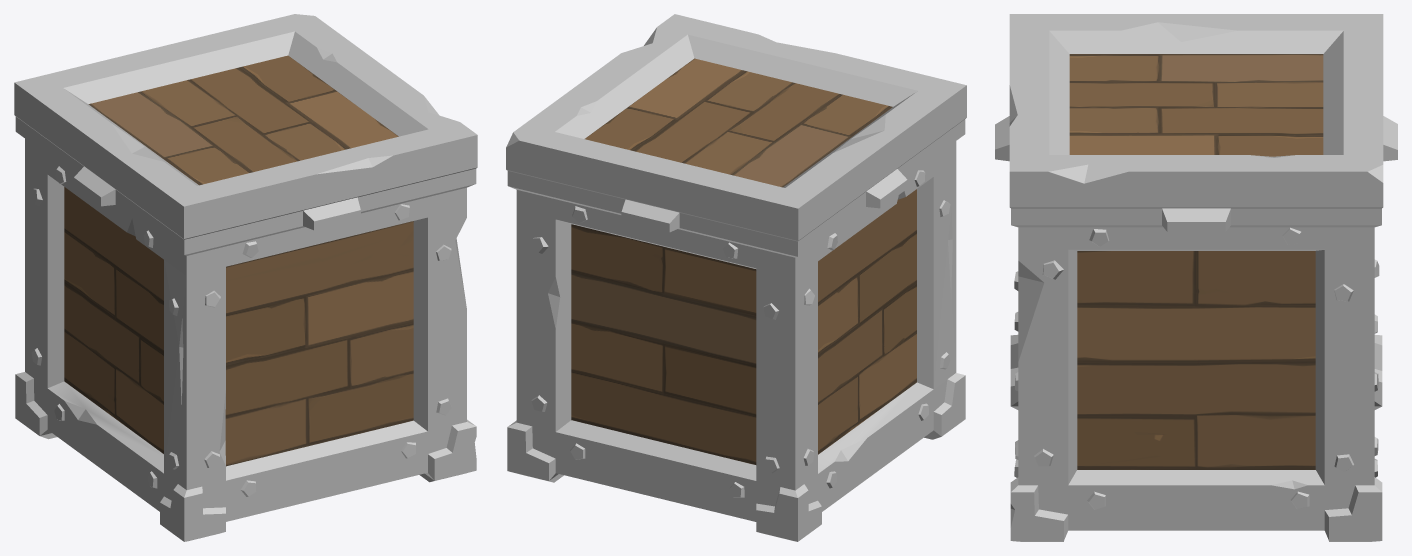
Rendered from SM_Prop_Crate_05.fbx.
3 views of the same model, side by side, from view 1: azimuth 30°, elevation 25°; view 2: azimuth 150°, elevation 25°; view 3: azimuth 270°, elevation 25° (orthographic). The views are drawn at different scales.
Parts seen in each view (by area): view 1: SM_Prop_Crate_05, Crate05_panels, Crate05_lid, Crate05_lid_panel; view 2: SM_Prop_Crate_05, Crate05_panels, Crate05_lid, Crate05_lid_panel; view 3: SM_Prop_Crate_05, Crate05_panels, Crate05_lid, Crate05_lid_panel.
Boxes of the visible parts, x1,y1,x2,y2 form: SM_Prop_Crate_05: (15,116,476,541); Crate05_panels: (64,187,413,466); Crate05_lid: (14,14,477,239); Crate05_lid_panel: (88,55,398,185); SM_Prop_Crate_05: (507,119,965,541); Crate05_panels: (571,189,916,464); Crate05_lid: (506,14,966,241); Crate05_lid_panel: (585,58,892,187); SM_Prop_Crate_05: (995,116,1397,541); Crate05_panels: (1077,251,1315,469); Crate05_lid: (1009,14,1383,208); Crate05_lid_panel: (1069,54,1323,156).
Bounding box in the file's own units: 94.16 × 96.83 × 94.16.
